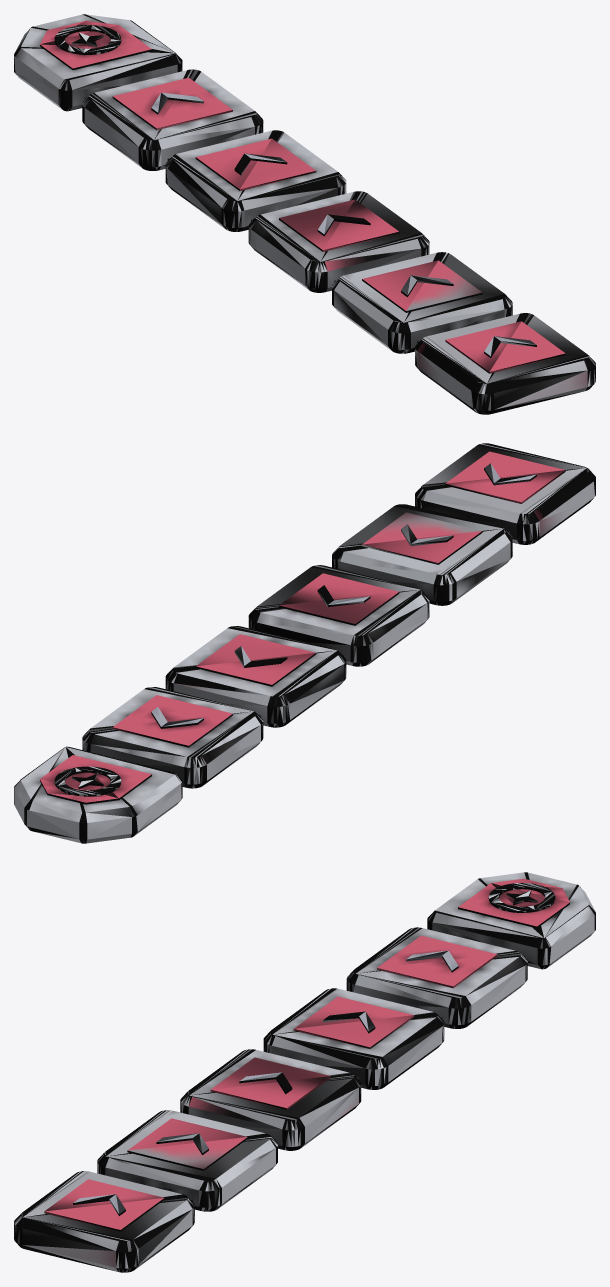
The model's file is FinalLane6_Carmesi.glb.
The picture shows the model from 3 angles, top to bottom: view 1: azimuth 30°, elevation 25°; view 2: azimuth 150°, elevation 25°; view 3: azimuth 330°, elevation 25°; orthographic projection.
Visible parts, largest first — view 1: Tile_1_Body, Tile_3_Body, Tile_5_Body, Tile_4_Body, Tile_2_Body, Tile_6_Body, Tile_1_TeamInset, Tile_2_TeamInset, Tile_4_TeamInset, Tile_5_TeamInset, Tile_3_TeamInset, Tile_6_TeamInset (+1 smaller); view 2: Tile_6_Body, Tile_4_Body, Tile_3_Body, Tile_1_Body, Tile_2_Body, Tile_5_Body, Tile_4_TeamInset, Tile_2_TeamInset, Tile_3_TeamInset, Tile_5_TeamInset, Tile_1_TeamInset, Tile_6_TeamInset (+1 smaller); view 3: Tile_1_Body, Tile_3_Body, Tile_5_Body, Tile_4_Body, Tile_2_Body, Tile_6_Body, Tile_1_TeamInset, Tile_2_TeamInset, Tile_4_TeamInset, Tile_5_TeamInset, Tile_3_TeamInset, Tile_6_TeamInset (+1 smaller).
Part boxes in pixels (<box>): Tile_1_Body: <box>415,313,595,414</box>; Tile_3_Body: <box>248,191,429,292</box>; Tile_5_Body: <box>82,69,263,170</box>; Tile_4_Body: <box>165,130,346,231</box>; Tile_2_Body: <box>332,252,512,353</box>; Tile_6_Body: <box>14,14,182,111</box>; Tile_1_TeamInset: <box>445,321,565,373</box>; Tile_2_TeamInset: <box>362,260,482,312</box>; Tile_4_TeamInset: <box>195,138,316,190</box>; Tile_5_TeamInset: <box>112,77,232,130</box>; Tile_3_TeamInset: <box>279,199,399,251</box>; Tile_6_TeamInset: <box>40,20,151,70</box>; Tile_6_Body: <box>14,746,182,843</box>; Tile_4_Body: <box>165,626,346,727</box>; Tile_3_Body: <box>248,565,429,666</box>; Tile_1_Body: <box>415,443,595,544</box>; Tile_2_Body: <box>332,504,512,605</box>; Tile_5_Body: <box>82,687,263,788</box>; Tile_4_TeamInset: <box>195,634,316,686</box>; Tile_2_TeamInset: <box>362,512,482,564</box>; Tile_3_TeamInset: <box>279,573,399,625</box>; Tile_5_TeamInset: <box>112,695,232,747</box>; Tile_1_TeamInset: <box>445,451,565,503</box>; Tile_6_TeamInset: <box>40,755,151,804</box>; Tile_1_Body: <box>14,1171,194,1272</box>; Tile_3_Body: <box>180,1049,361,1150</box>; Tile_5_Body: <box>346,927,527,1028</box>; Tile_4_Body: <box>263,988,444,1089</box>; Tile_2_Body: <box>97,1110,277,1211</box>; Tile_6_Body: <box>427,872,595,969</box>; Tile_1_TeamInset: <box>44,1179,164,1231</box>; Tile_2_TeamInset: <box>127,1118,247,1170</box>; Tile_4_TeamInset: <box>293,996,414,1048</box>; Tile_5_TeamInset: <box>377,935,497,988</box>; Tile_3_TeamInset: <box>210,1057,330,1109</box>; Tile_6_TeamInset: <box>458,878,569,928</box>.
Bounding box in the file's own units: 0.85 × 0.225 × 5.85.
Materials: 5 (5 with a texture image).
